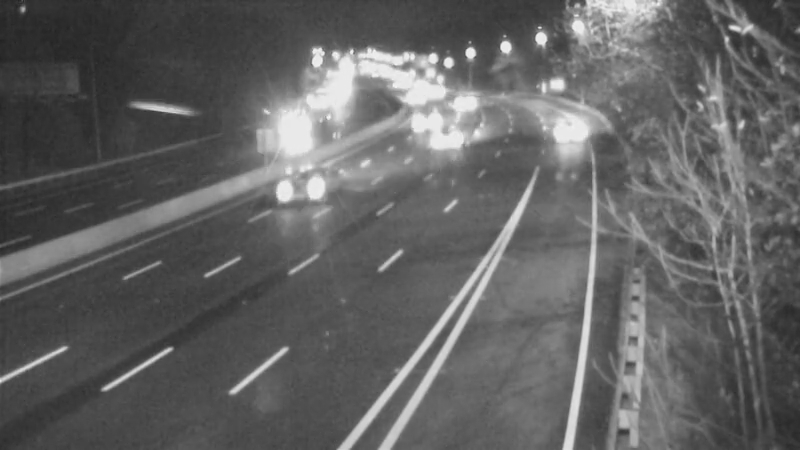vehicle: (264, 154, 344, 234), (416, 63, 466, 113), (388, 68, 438, 118), (437, 77, 487, 127), (537, 109, 587, 159), (396, 89, 446, 139), (426, 110, 476, 160), (270, 103, 320, 153)
